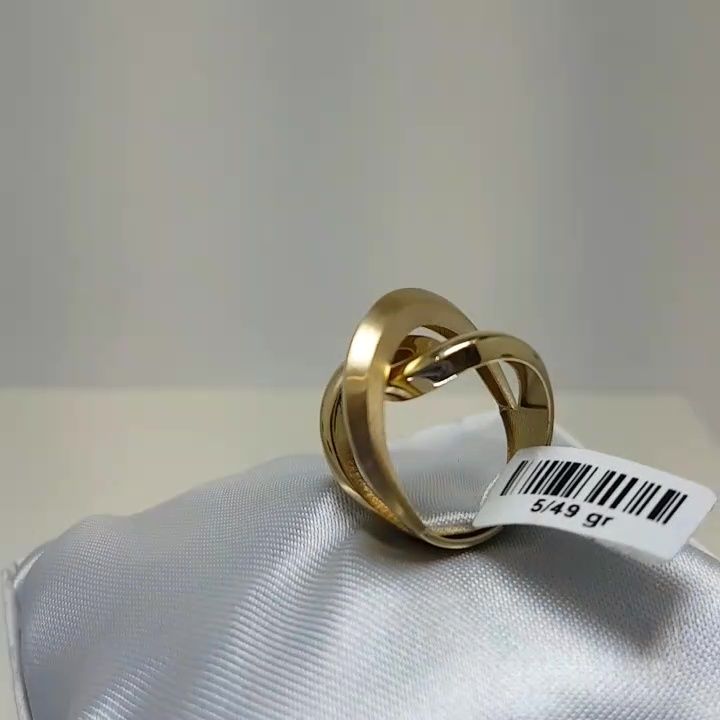Ring 3: (262, 268, 580, 584)
